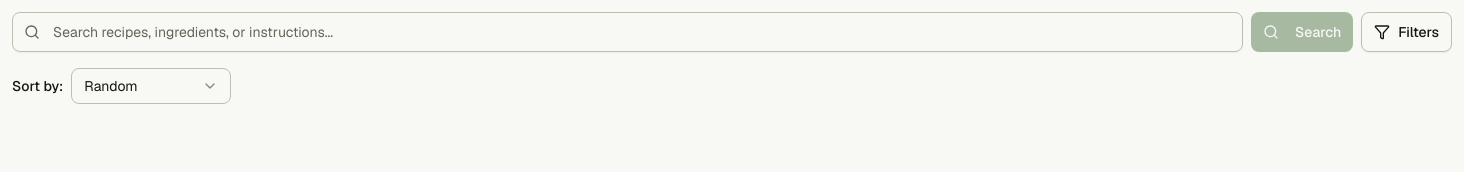
Scenario: RecipeSearch - RecipesClient Integration › Search Button Functionality › should be enabled when query has text
Note: Type a query
Type "salad" into the field labelled "Search recipes, ingredients, or instructions..." at point(628, 32), box [12,12,1243,52]
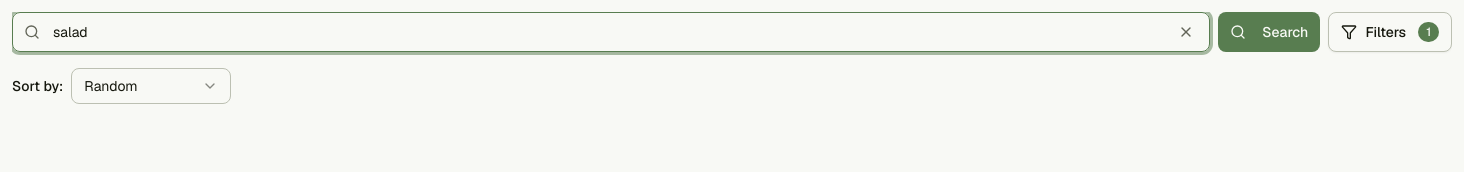
Check: the button with aria-label "search recipes" is enabled, box [1218,12,1320,52]
